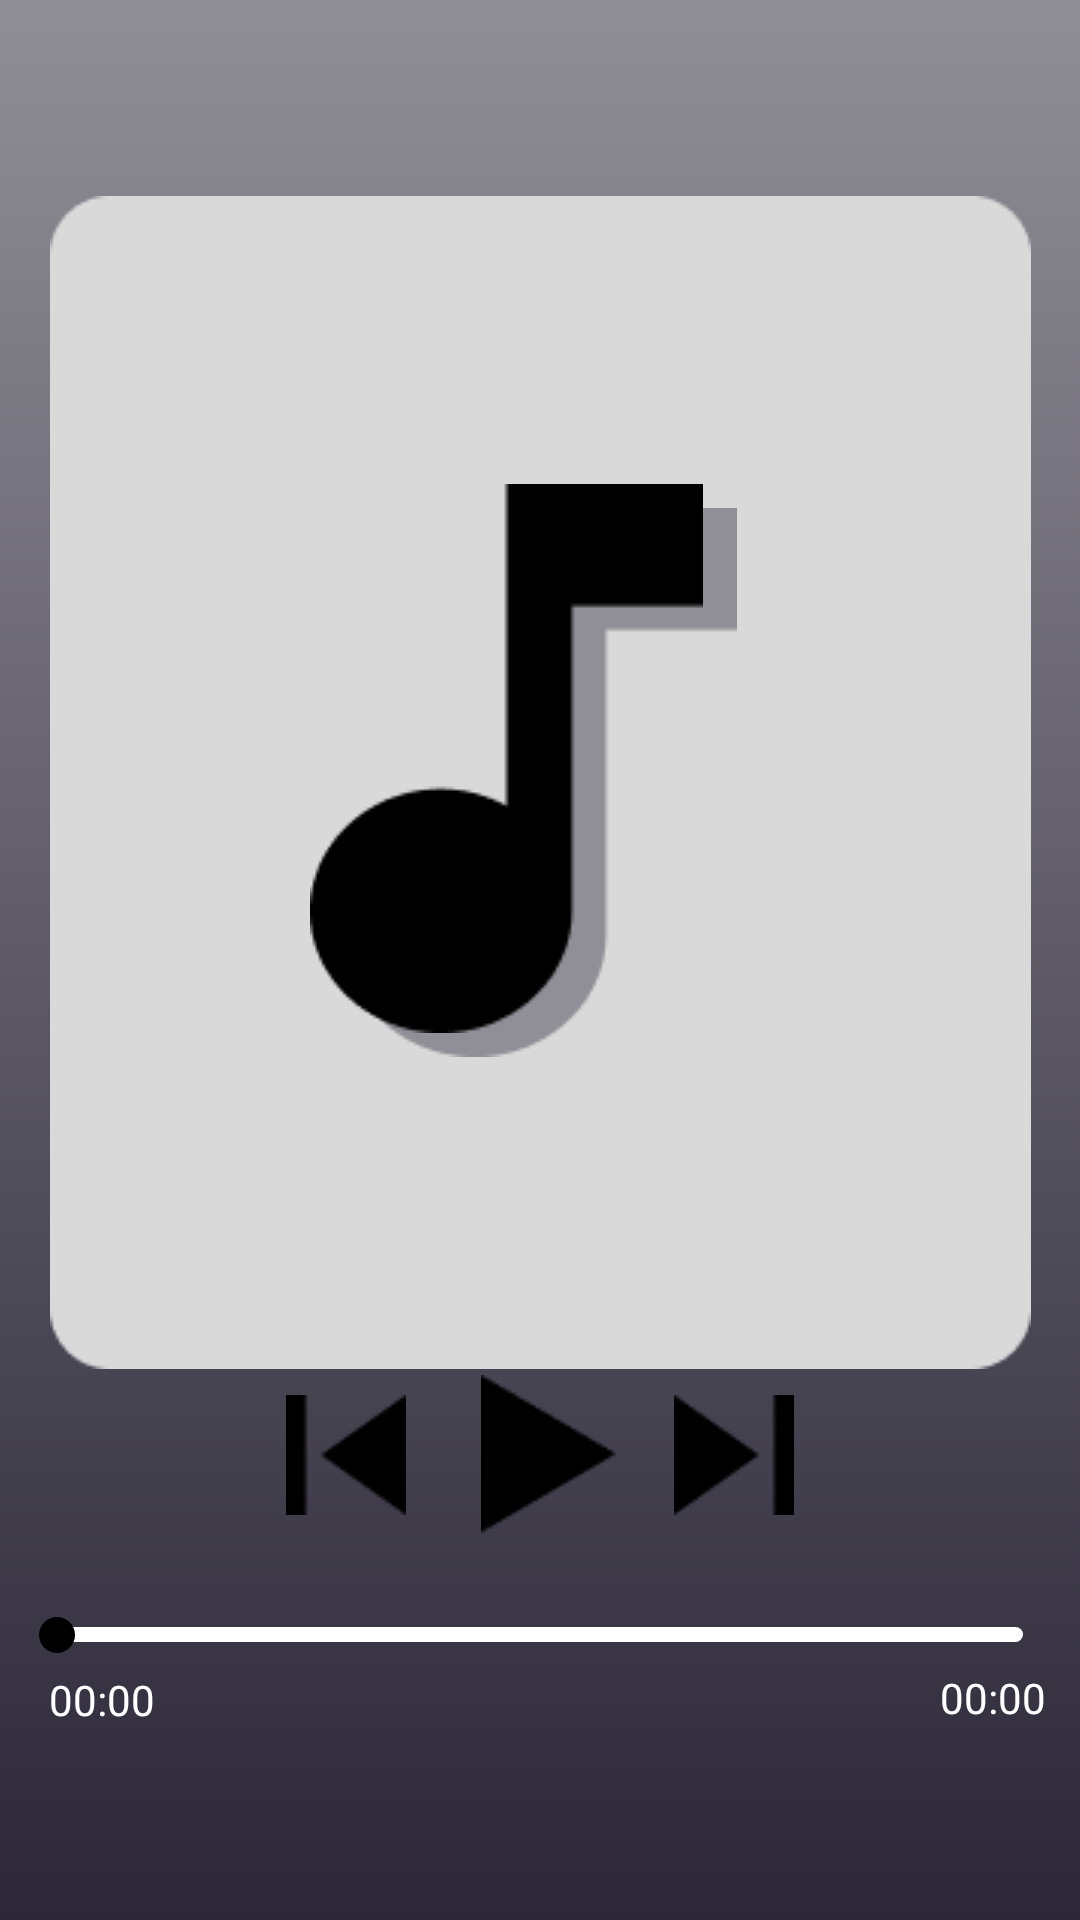

Point at icon controls on the screen. Image size 1080 × 1920, points as (x,y).
play: (548,1453)
